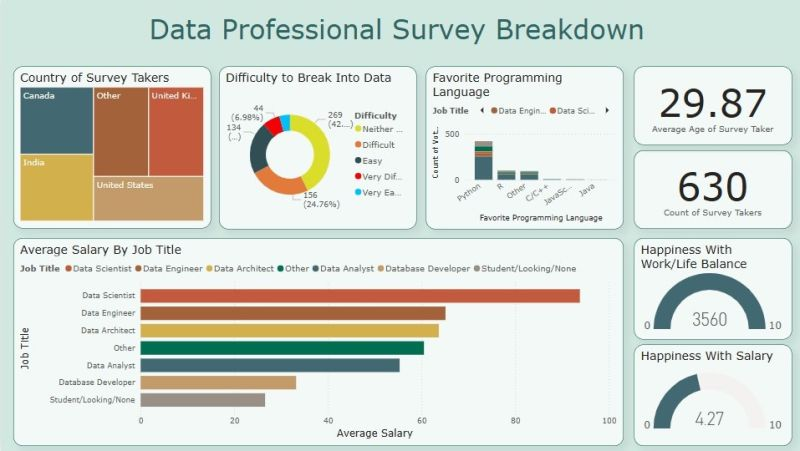

What the dashboard file says about the page in this screenshot:
{"tool":"powerbi","page":{"name":"Page 1","canvas":[1280,720],"ordinal":0},"visuals":[{"type":"card","fields":{"Values":["Count(Data Professional Survey.Unique ID)"]},"box":[1010,240,251.7,125],"z":0},{"type":"card","fields":{"Values":["Avg(Data Professional Survey.Q10 - Current Age)"]},"box":[1010,105,251.7,125],"z":1000},{"type":"barChart","title":"Average Salary By Job Title","fields":{"Category":["Data Professional Survey.Q1 - Which Title Best Fits your Current Role?.1"],"Y":["Avg(Data Professional Survey.Average Salary)"],"Series":["Data Professional Survey.Q1 - Which Title Best Fits your Current Role?.1"]},"box":[20,380,973.3,331.7],"z":2000},{"type":"columnChart","title":"Favorite Programming Language","fields":{"Category":["Data Professional Survey.Q5 - Favorite Programming Language.1"],"Y":["CountNonNull(Data Professional Survey.Unique ID)"],"Series":["Data Professional Survey.Q1 - Which Title Best Fits your Current Role?.1"]},"box":[678.3,105,315,260],"z":3000},{"type":"treemap","title":"Country of Survey Takers","fields":{"Group":["Data Professional Survey.Q11 - Which Country do you live in?.1"],"Values":["Count(Data Professional Survey.Q11 - Which Country do you live in?.1)"]},"box":[20,105,315,258.3],"z":4000},{"type":"gauge","title":"Happiness With Work/Life Balance ","fields":{"Y":["Sum(Data Professional Survey.Q6 - How Happy are you in your Current Position with the following? (Work/Life Balance))"],"MinValue":["Min(Data Professional Survey.Q6 - How Happy are you in your Current Position with the following? (Work/Life Balance))"],"MaxValue":["Max(Data Professional Survey.Q6 - How Happy are you in your Current Position with the following? (Work/Life Balance))"]},"box":[1010,380,251.7,161.7],"z":5000},{"type":"gauge","title":"Happiness With Salary","fields":{"Y":["Avg(Data Professional Survey.Q6 - How Happy are you in your Current Position with the following? (Salary))"],"MinValue":["Min(Data Professional Survey.Q6 - How Happy are you in your Current Position with the following? (Salary))"],"MaxValue":["Max(Data Professional Survey.Q6 - How Happy are you in your Current Position with the following? (Salary))"]},"box":[1010,550,251.7,161.7],"z":6000},{"type":"donutChart","title":"Difficulty to Break Into Data","fields":{"Category":["Data Professional Survey.Q7 - How difficult was it for you to break into Data?"],"Y":["CountNonNull(Data Professional Survey.Q7 - How difficult was it for you to break into Data?)"]},"box":[348.3,105,315,260],"z":7000},{"type":"textbox","box":[0,0,1280,76.7],"z":8000}]}

Visuals, with their boxes in screenshot pixels (x1, y1, x2, y2), scaled from the page's 1280x720 canvas onto the 800x451 screenshot:
card - Count(Data Professional Survey.Unique ID): detection(631, 150, 789, 229)
card - Avg(Data Professional Survey.Q10 - Current Age): detection(631, 66, 789, 144)
"Average Salary By Job Title" barChart: detection(12, 238, 621, 446)
"Favorite Programming Language" columnChart: detection(424, 66, 621, 229)
"Country of Survey Takers" treemap: detection(12, 66, 209, 228)
"Happiness With Work/Life Balance " gauge: detection(631, 238, 789, 339)
"Happiness With Salary" gauge: detection(631, 345, 789, 446)
"Difficulty to Break Into Data" donutChart: detection(218, 66, 415, 229)
textbox: detection(0, 0, 799, 48)
